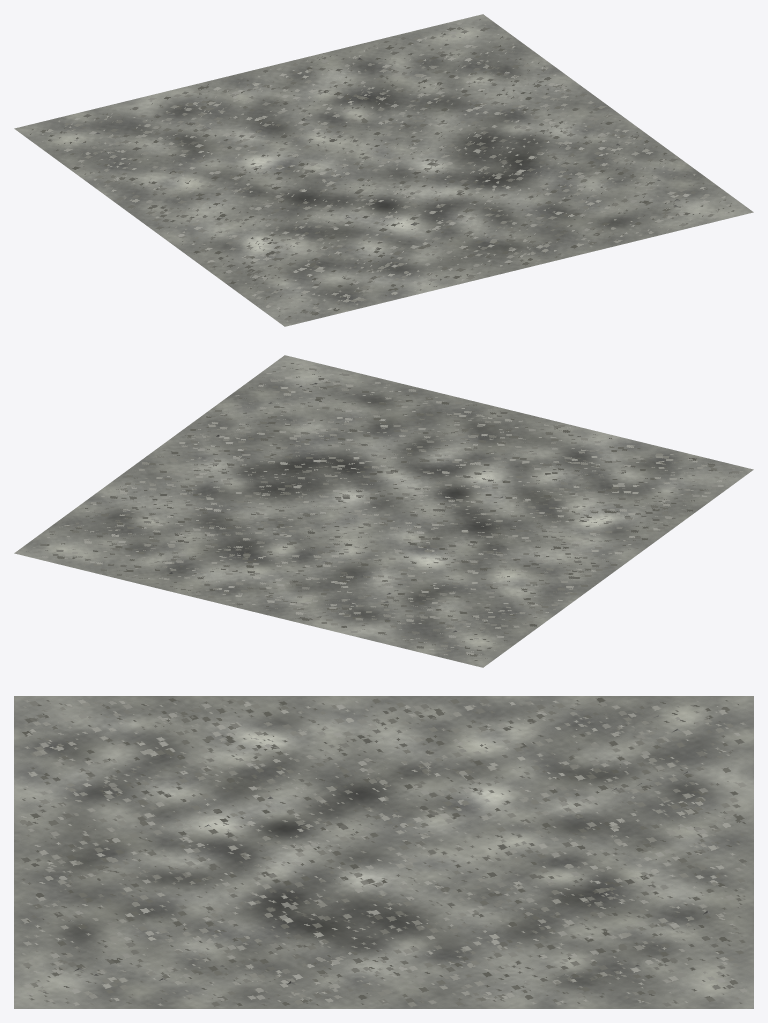
File: E07_SOLOZ2_P1_CASCALHO_CINZA_B.glb
3 renders of one model, top to bottom at view 1: azimuth 30°, elevation 25°; view 2: azimuth 150°, elevation 25°; view 3: azimuth 270°, elevation 25°, orthographic. The views are drawn at different scales.
Visible parts, largest first — view 1: piso_2x2_texturizado; view 2: piso_2x2_texturizado; view 3: piso_2x2_texturizado.
Boxes of the visible parts, box(x1,y1,x2,y2) form: piso_2x2_texturizado: box(14, 14, 753, 326); piso_2x2_texturizado: box(14, 355, 753, 667); piso_2x2_texturizado: box(14, 696, 753, 1008).
Bounding box in the file's own units: 2 × 0.0156 × 2.
1 material, 1 textured.
